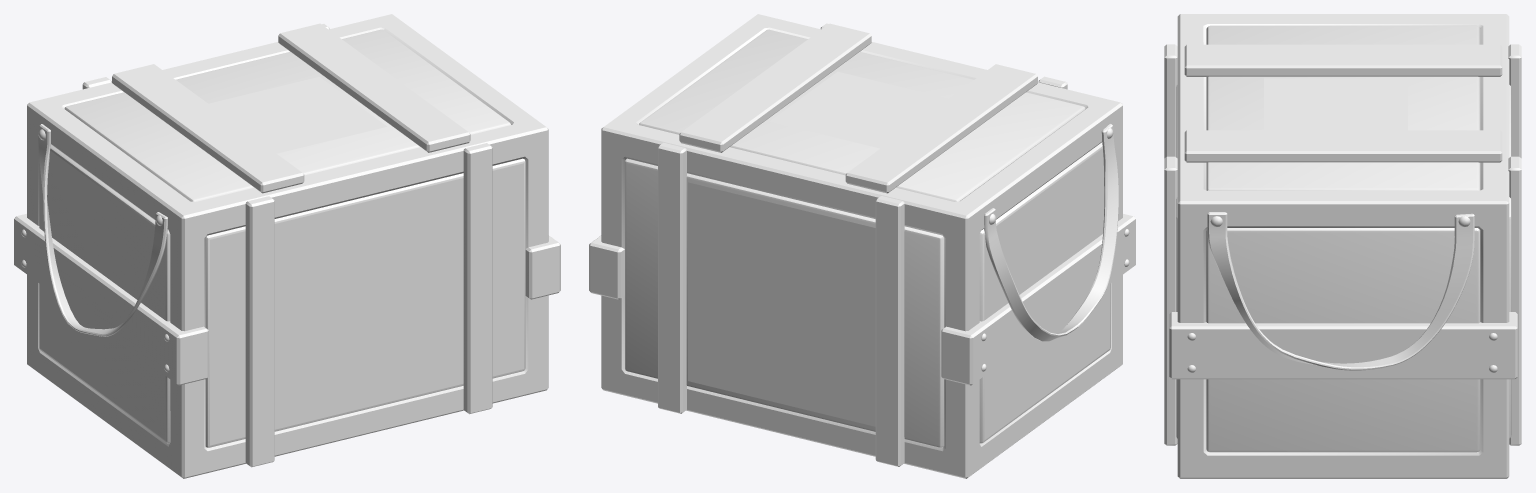
The model's file is KB3D_FTW_PropCargoBox_B_grp.glb.
3 renders of one model, left to right at view 1: azimuth 30°, elevation 25°; view 2: azimuth 150°, elevation 25°; view 3: azimuth 270°, elevation 25°, orthographic. The views are drawn at different scales.
Parts seen in each view (by area): view 1: KB3D_FTW_PropCargoBox_B_Main; view 2: KB3D_FTW_PropCargoBox_B_Main; view 3: KB3D_FTW_PropCargoBox_B_Main.
Part boxes in pixels (box(x1,y1,x2,y2)): KB3D_FTW_PropCargoBox_B_Main: box(14, 14, 560, 478); KB3D_FTW_PropCargoBox_B_Main: box(589, 14, 1135, 478); KB3D_FTW_PropCargoBox_B_Main: box(1164, 14, 1521, 478).
Bounding box in the file's own units: 0.669 × 0.407 × 0.4555.
5 materials, 1 textured.
